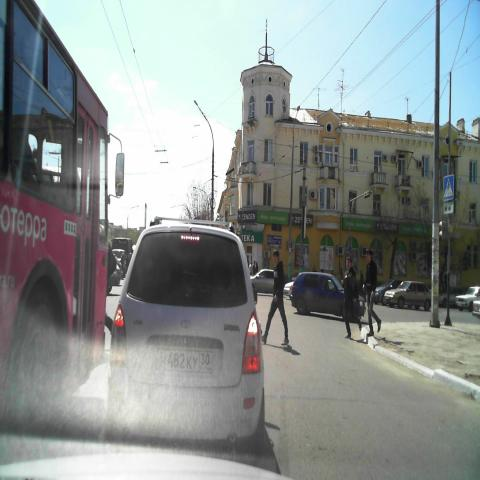5_19_1: (442, 174, 454, 201)
8_15: (442, 202, 454, 214)
